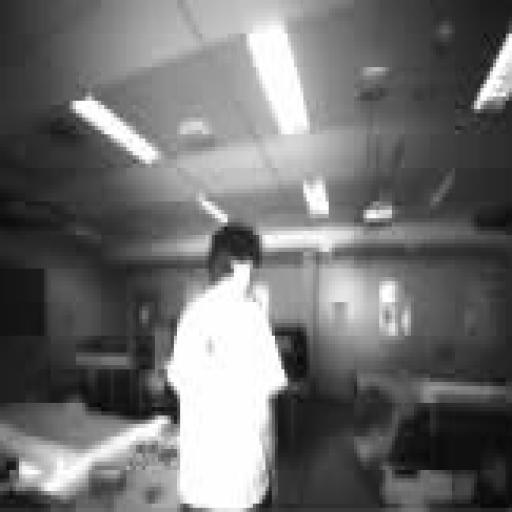human: (168, 223, 287, 511), (298, 386, 492, 512)
